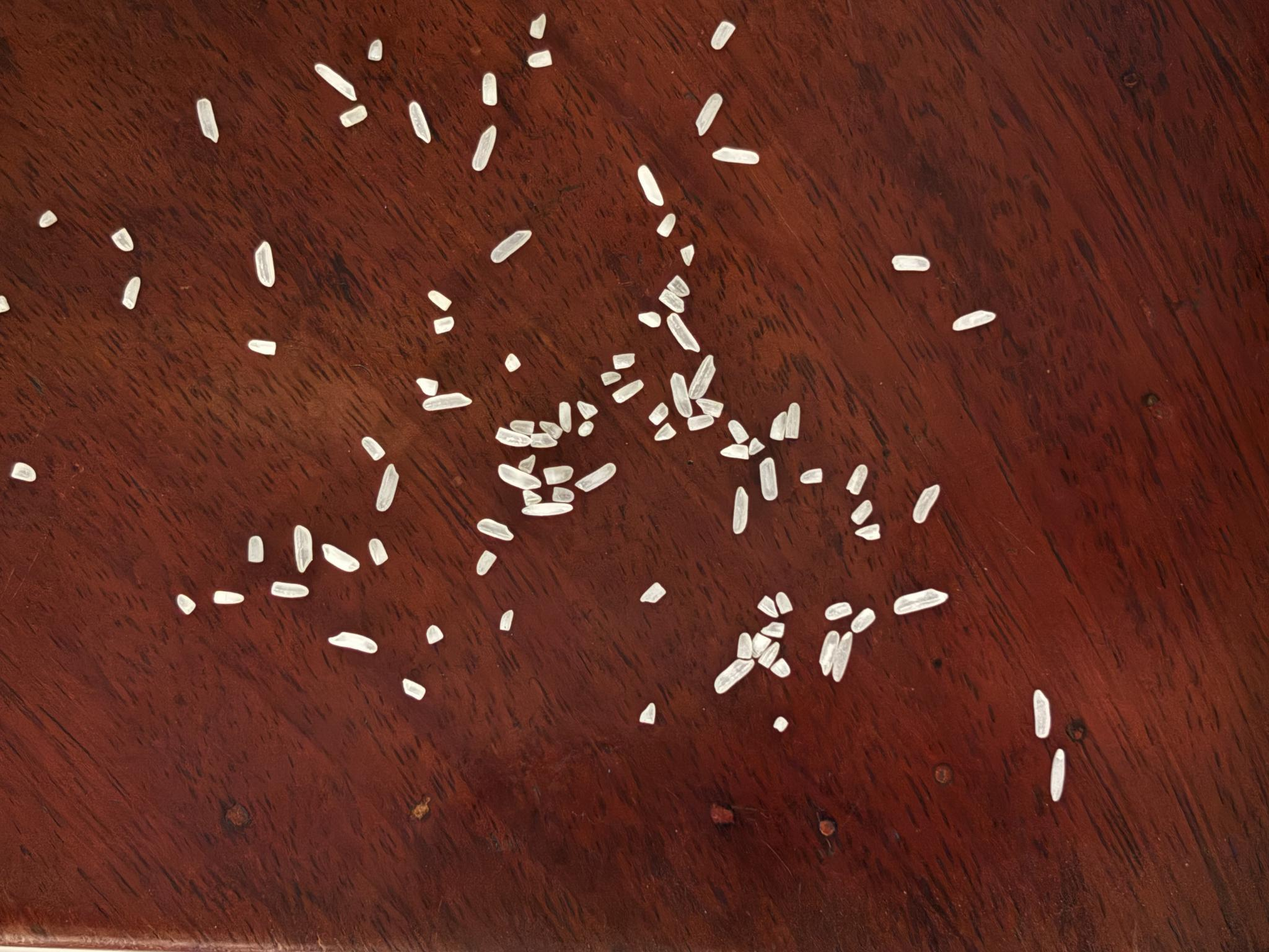Rice-th-y-nh: (893, 581, 949, 623), (713, 653, 755, 698), (314, 62, 358, 103), (328, 625, 379, 660), (663, 311, 701, 357), (685, 353, 720, 402), (827, 630, 859, 683), (1025, 689, 1058, 740), (663, 371, 698, 419), (1043, 748, 1074, 802), (371, 463, 404, 513), (489, 228, 533, 265), (692, 91, 726, 138), (287, 524, 319, 573), (634, 163, 668, 209), (468, 125, 500, 173), (496, 461, 541, 495), (522, 494, 574, 523), (712, 140, 759, 172), (909, 482, 943, 526), (953, 303, 996, 337), (726, 486, 755, 534), (753, 456, 783, 502), (814, 629, 843, 676), (575, 461, 617, 493), (320, 543, 361, 573), (494, 423, 532, 452), (406, 101, 432, 143), (891, 249, 930, 277), (271, 577, 310, 605), (195, 98, 219, 142), (780, 402, 806, 440), (423, 391, 470, 412), (611, 378, 645, 406), (476, 517, 514, 542), (542, 460, 574, 489), (477, 72, 502, 106), (709, 20, 736, 51), (824, 597, 854, 624), (845, 463, 869, 496), (658, 288, 686, 316), (849, 607, 877, 635), (766, 411, 791, 442), (757, 641, 783, 670), (720, 440, 751, 464), (555, 401, 577, 433), (696, 396, 725, 420), (850, 498, 874, 527), (339, 104, 368, 128), (244, 534, 267, 564), (734, 632, 757, 661), (687, 410, 714, 434), (855, 520, 882, 544), (726, 418, 749, 446), (529, 430, 558, 452), (361, 436, 386, 461), (666, 274, 691, 299), (401, 677, 427, 701), (756, 594, 780, 620), (760, 618, 786, 642), (537, 418, 564, 441), (647, 400, 670, 427), (639, 581, 666, 604), (367, 538, 389, 566), (213, 588, 245, 607), (799, 464, 824, 488), (475, 549, 497, 576), (612, 349, 636, 373), (750, 631, 773, 656), (773, 590, 796, 615), (551, 483, 576, 506), (656, 213, 678, 239), (509, 416, 536, 437), (123, 277, 140, 309), (527, 49, 554, 69), (517, 453, 540, 476), (770, 657, 793, 680), (575, 399, 599, 421), (415, 376, 440, 397), (529, 13, 548, 40), (175, 593, 197, 616), (428, 290, 452, 311), (637, 702, 658, 726), (112, 228, 133, 251), (11, 462, 36, 481), (424, 624, 445, 646), (654, 422, 677, 442), (433, 316, 455, 336), (678, 243, 696, 267), (638, 311, 662, 329), (521, 487, 542, 507), (248, 340, 276, 355), (367, 39, 385, 62), (746, 437, 766, 457), (599, 369, 622, 386), (499, 609, 516, 632), (503, 353, 522, 372), (577, 418, 595, 438), (772, 715, 789, 733), (39, 211, 57, 227), (0, 294, 9, 313)
